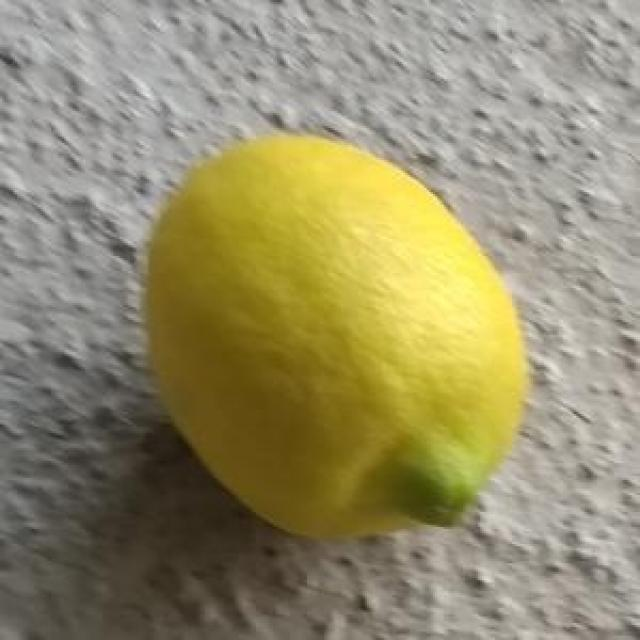lemon: (144, 138, 526, 546)
